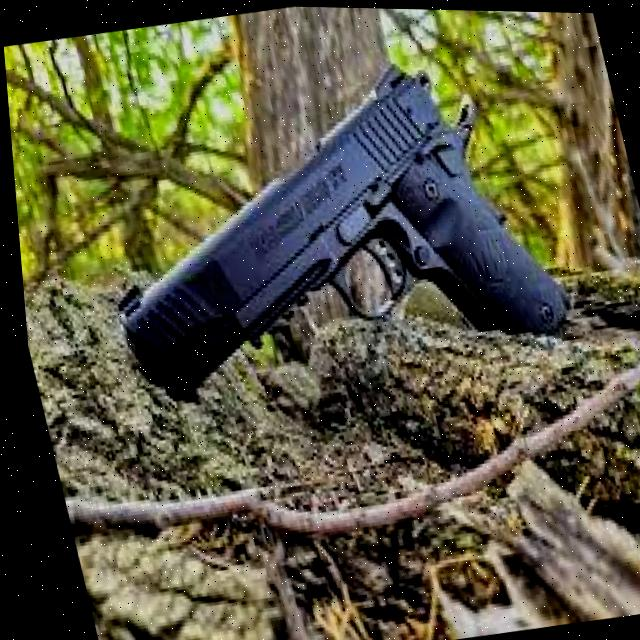gun: (116, 65, 569, 405)
